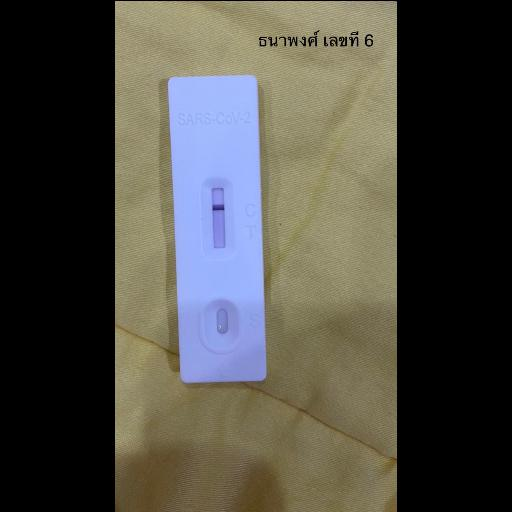Neg: (166, 72, 266, 382)
